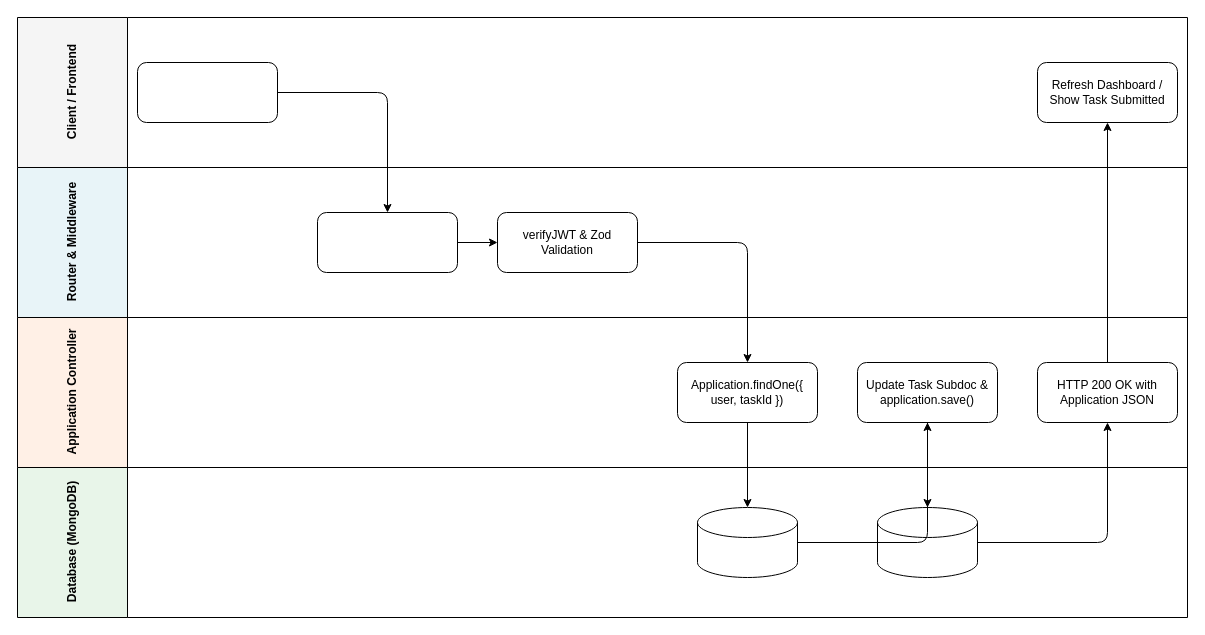
Image size: 1205x635. Some labels were removed from this diagram. Each missing label, with the centre of its shape:
"Fetch Application & Task" goes at [747,542].
"POST /task/:taskId" goes at [387,242].
"Save Application Changes" goes at [927,542].
"Student fills task submission & submits" goes at [207,92].
